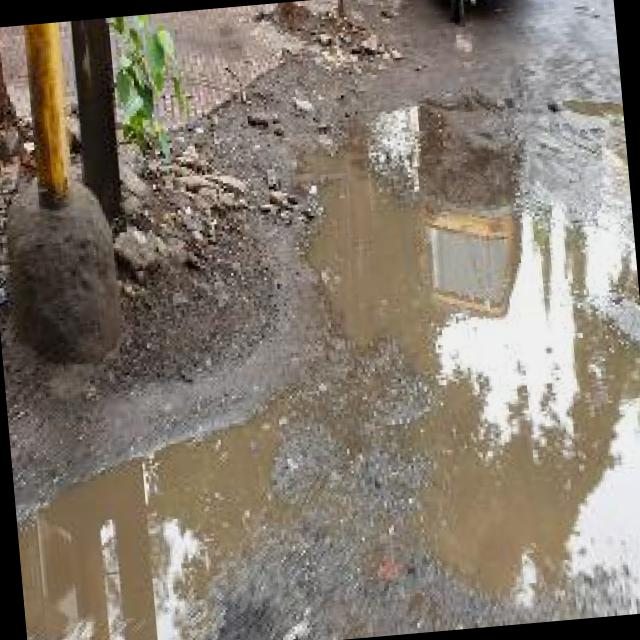stagnation: (293, 80, 640, 639), (4, 356, 330, 640)
